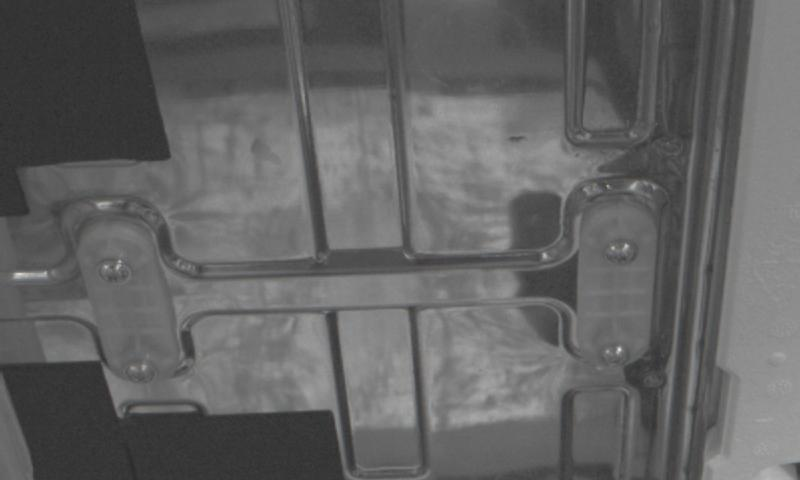vida-ok: (599, 227, 643, 272), (97, 247, 137, 292), (120, 350, 162, 390), (593, 336, 633, 374)
